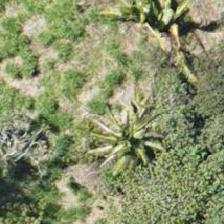coconut_tree: (79, 98, 169, 188), (105, 0, 195, 70)
